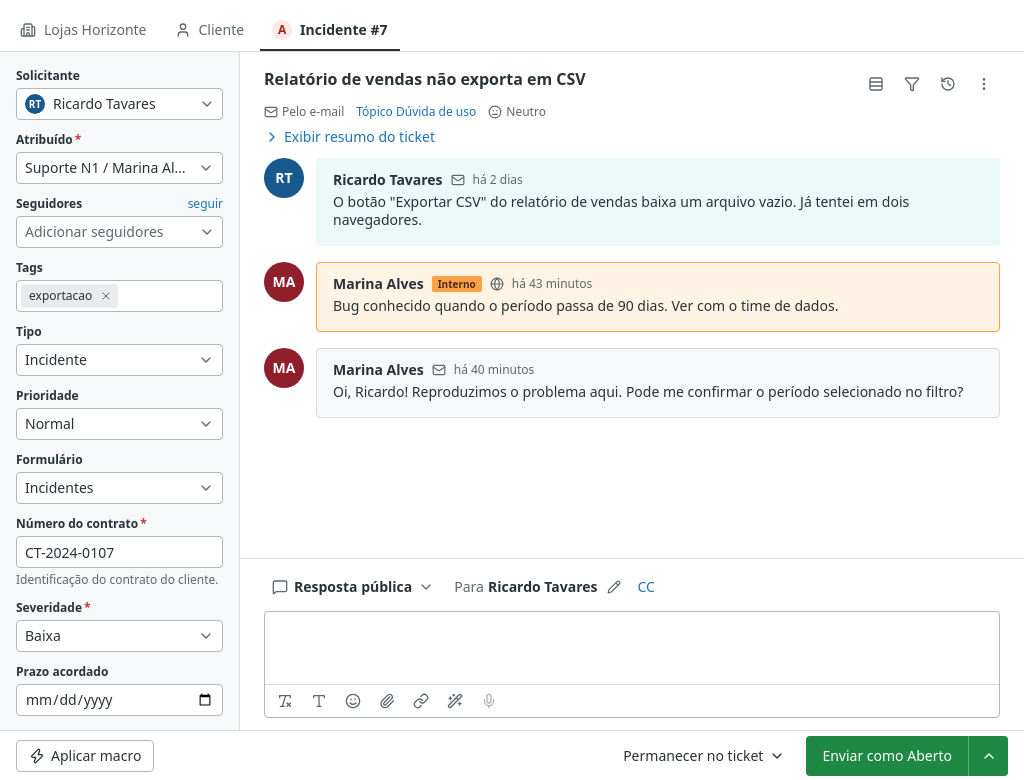
Conversa e Composer › link CC abre o campo de e-mails
The width and height of the screenshot is (1024, 780).
Click the button "CC".
click(646, 587)  # box [638,578,655,596]
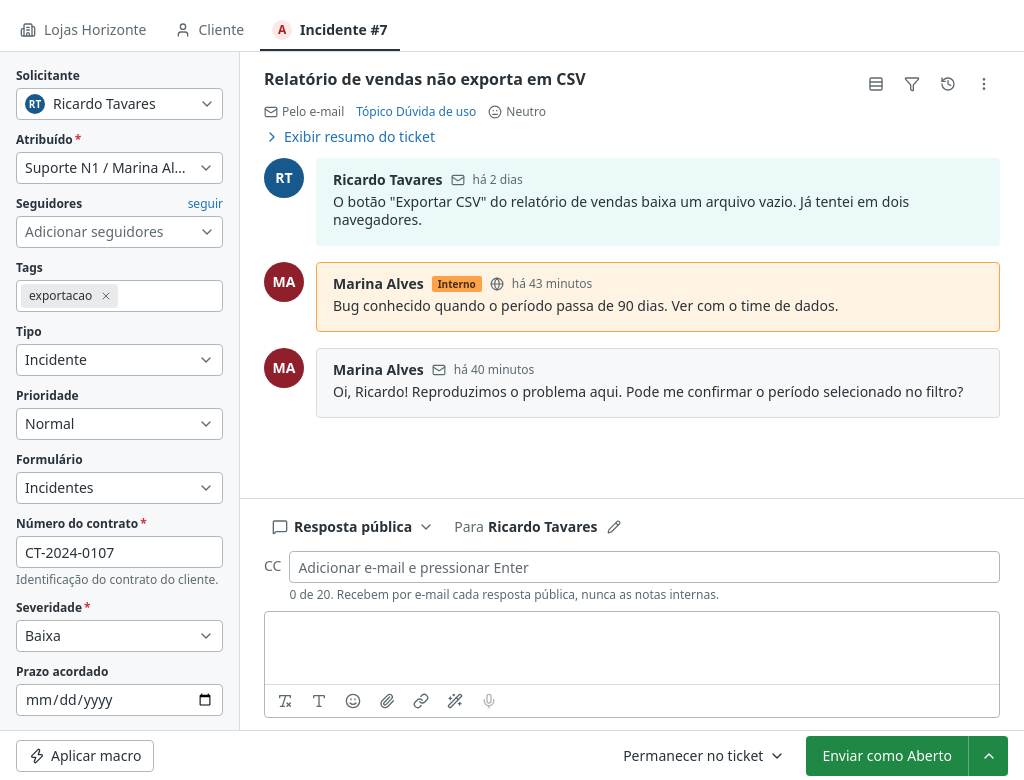
Expected: the field named "CC (e-mails)" is shown, [290,552,999,582]
